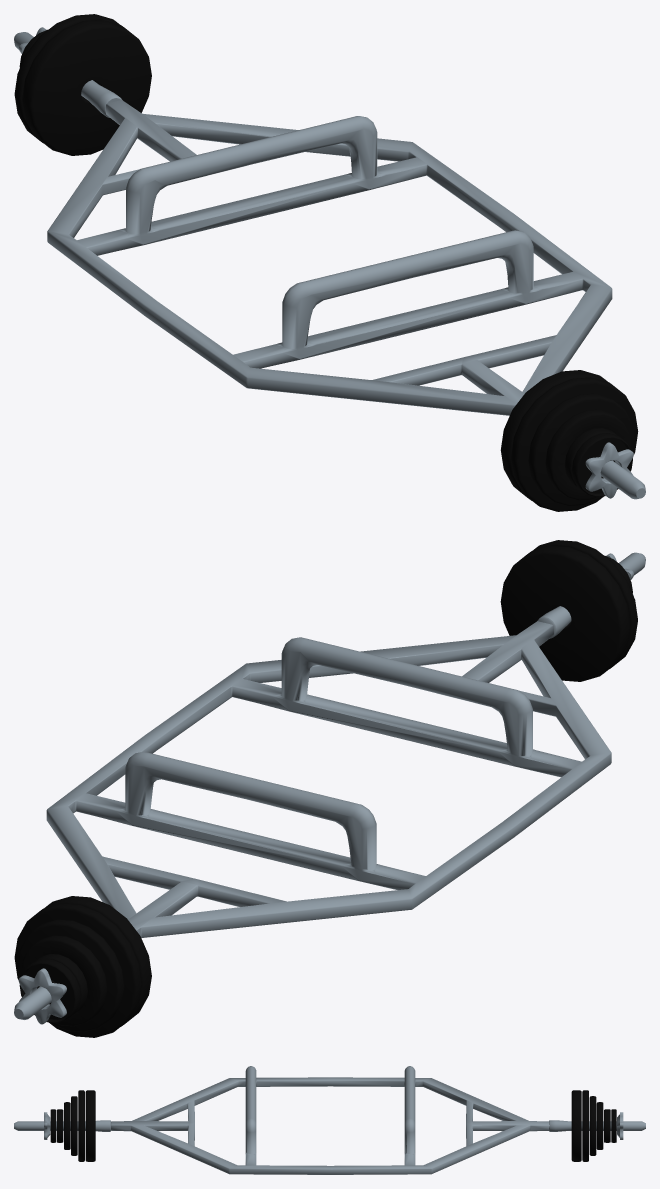
Rendered from Trap_Bar1(FBX).FBX.
3 renders of one model, top to bottom at view 1: azimuth 30°, elevation 25°; view 2: azimuth 150°, elevation 25°; view 3: azimuth 270°, elevation 25°, orthographic. The views are drawn at different scales.
Parts seen in each view (by area): view 1: Box002, Cylinder012, Cylinder022, Cylinder024, Cylinder019, Cylinder023, Cylinder001, Cylinder021, Cylinder011, Star003; view 2: Box002, Cylinder023, Cylinder011, Cylinder002, Cylinder004, Cylinder012, Cylinder001, Cylinder006, Cylinder022, Star001; view 3: Box002, Cylinder001, Cylinder023, Cylinder012, Cylinder011, Cylinder022, Cylinder002, Cylinder024, Cylinder004, Cylinder019, Cylinder020, Cylinder005 (+2 smaller).
Part boxes in pixels (<box>): Box002: <box>47,100,612,415</box>; Cylinder012: <box>22,19,151,155</box>; Cylinder022: <box>511,377,638,511</box>; Cylinder024: <box>528,393,635,506</box>; Cylinder019: <box>545,409,631,500</box>; Cylinder023: <box>500,370,608,500</box>; Cylinder001: <box>14,32,645,499</box>; Cylinder021: <box>571,433,632,496</box>; Cylinder011: <box>14,14,119,143</box>; Star003: <box>585,442,633,498</box>; Box002: <box>46,621,611,937</box>; Cylinder023: <box>500,545,630,681</box>; Cylinder011: <box>14,903,141,1037</box>; Cylinder002: <box>17,919,124,1032</box>; Cylinder004: <box>21,935,107,1026</box>; Cylinder012: <box>45,896,151,1026</box>; Cylinder001: <box>14,552,645,1019</box>; Cylinder006: <box>19,959,80,1022</box>; Cylinder022: <box>532,540,637,668</box>; Star001: <box>18,968,66,1024</box>; Box002: <box>111,1066,549,1174</box>; Cylinder001: <box>14,1120,645,1131</box>; Cylinder023: <box>85,1090,95,1161</box>; Cylinder012: <box>571,1090,581,1161</box>; Cylinder011: <box>582,1090,588,1161</box>; Cylinder022: <box>78,1090,84,1161</box>; Cylinder002: <box>589,1096,596,1155</box>; Cylinder024: <box>71,1096,77,1155</box>; Cylinder004: <box>596,1102,603,1149</box>; Cylinder019: <box>64,1102,70,1149</box>; Cylinder020: <box>56,1109,63,1142</box>; Cylinder005: <box>604,1109,610,1142</box>.
Bounding box in the file's own units: 32.9 × 10.96 × 95.35.
